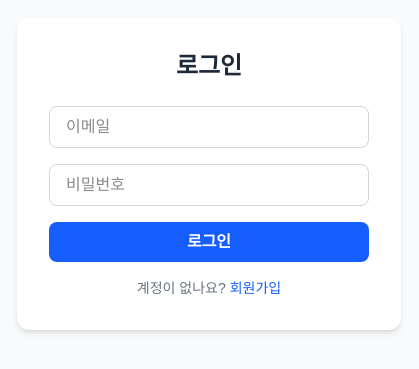
Test: LoginPage › 성공 시 환영 메시지가 표시된다
In the field with placeholder "이메일": (209, 127) 49,106 -> 369,148, type "test@example.com"
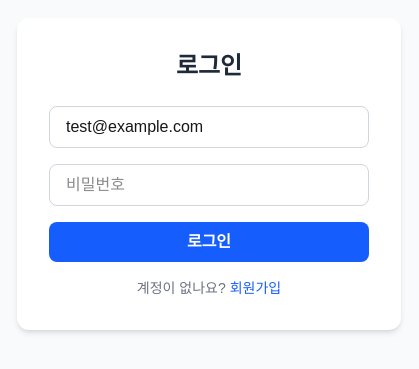
In the password field with placeholder "비밀번호": (209, 185) 49,164 -> 369,206, type "password123"
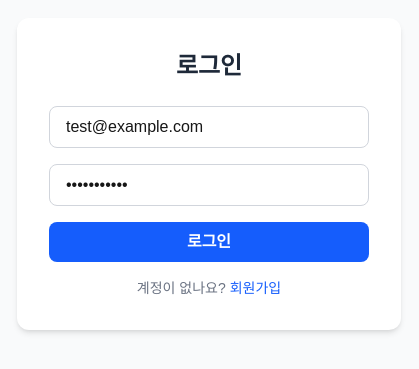
Click the button "로그인": (209, 242) 49,222 -> 369,262
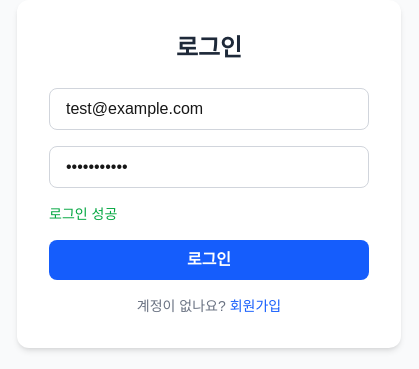
Expected: the text "로그인 성공" is shown, 49,206 -> 117,222
